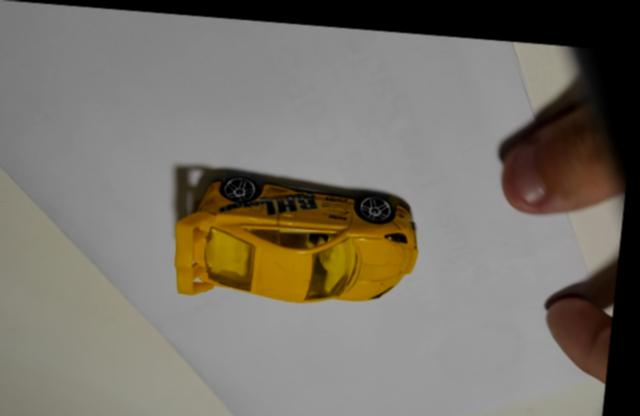07_RHLTURBO: (179, 169, 422, 297)
